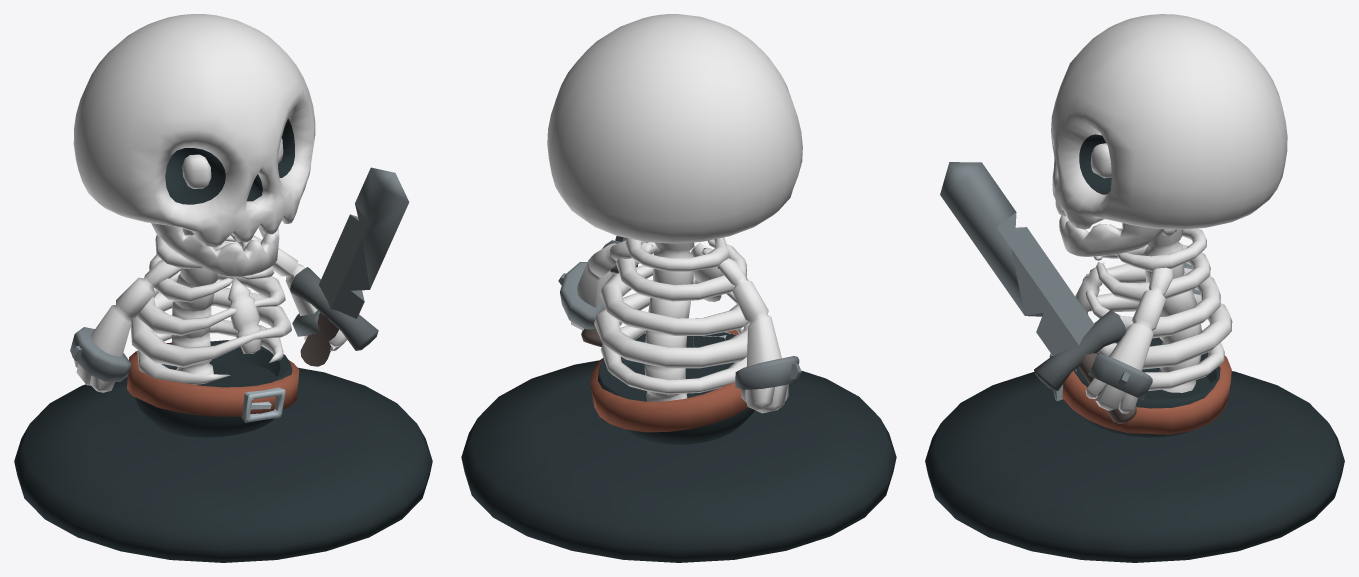
Rendered from skeleton.glb.
3 views of the same model, side by side, from view 1: azimuth 30°, elevation 25°; view 2: azimuth 150°, elevation 25°; view 3: azimuth 270°, elevation 25° (orthographic). The views are drawn at different scales.
Visible parts, largest first — view 1: plate, character_skeleton_minion_head, character_skeleton_minion_body, sword_common, character_skeleton_minion_armRight, character_skeleton_minion_jaw, character_skeleton_minion_armLeft, character_skeleton_minion_eyes; view 2: plate, character_skeleton_minion_head, character_skeleton_minion_body, character_skeleton_minion_armRight, character_skeleton_minion_armLeft; view 3: plate, character_skeleton_minion_head, character_skeleton_minion_body, sword_common, character_skeleton_minion_armLeft, character_skeleton_minion_jaw, character_skeleton_minion_eyes.
Boxes of the visible parts, <box> form: plate: <box>14,367,432,562</box>; character_skeleton_minion_head: <box>73,14,315,247</box>; character_skeleton_minion_body: <box>127,228,299,437</box>; sword_common: <box>290,167,409,366</box>; character_skeleton_minion_armRight: <box>70,259,182,392</box>; character_skeleton_minion_jaw: <box>151,223,279,276</box>; character_skeleton_minion_armLeft: <box>224,235,347,351</box>; character_skeleton_minion_eyes: <box>182,138,283,188</box>; plate: <box>461,360,896,562</box>; character_skeleton_minion_head: <box>547,14,802,243</box>; character_skeleton_minion_body: <box>590,237,754,444</box>; character_skeleton_minion_armRight: <box>702,248,801,413</box>; character_skeleton_minion_armLeft: <box>558,240,653,330</box>; plate: <box>925,371,1344,562</box>; character_skeleton_minion_head: <box>1051,14,1287,229</box>; character_skeleton_minion_body: <box>1049,228,1232,437</box>; sword_common: <box>940,162,1136,423</box>; character_skeleton_minion_armLeft: <box>1085,267,1173,413</box>; character_skeleton_minion_jaw: <box>1059,215,1163,256</box>; character_skeleton_minion_eyes: <box>1090,143,1111,178</box>.
Size of the model in its own units: 1.62 by 1.89 by 1.62.
